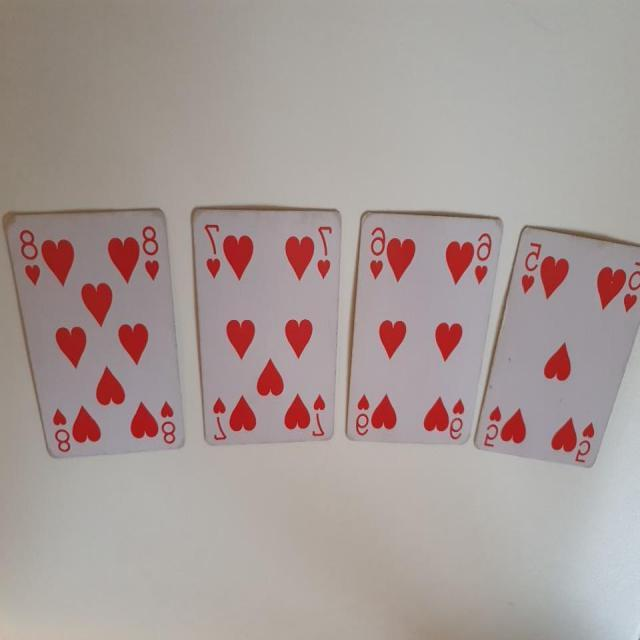5 of hearts: (468, 230, 640, 470)
6 of hearts: (338, 197, 513, 458)
7 of hearts: (189, 206, 346, 454)
8 of hearts: (2, 201, 190, 471)
